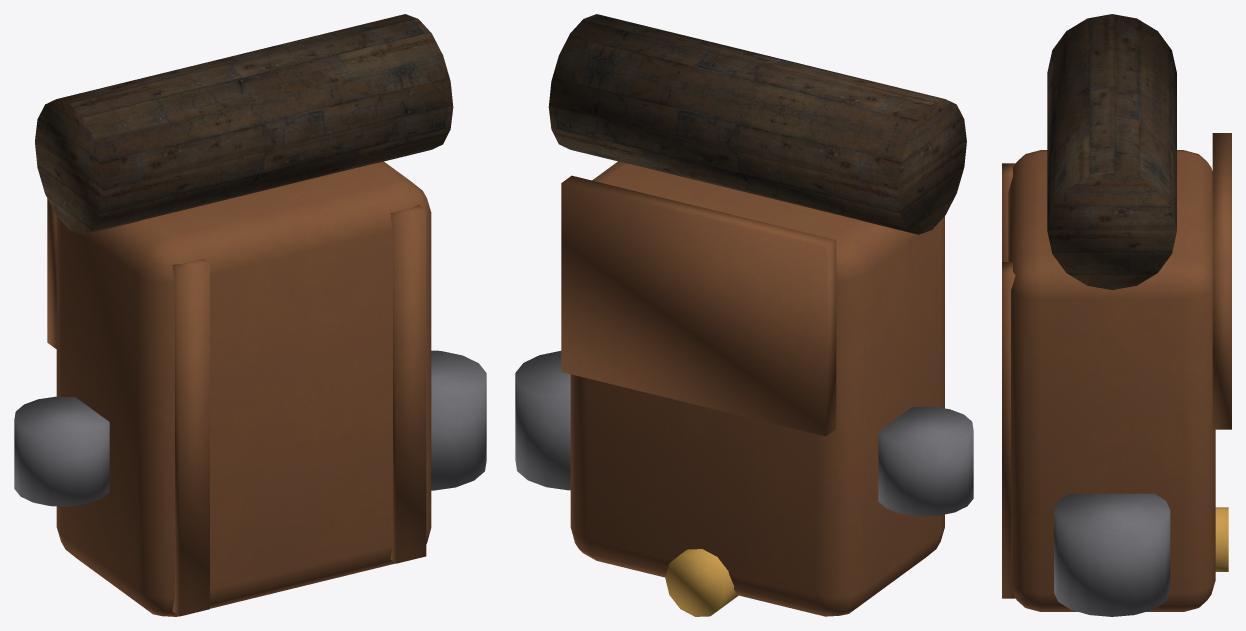
Rendered from prop_merchant_backpack.glb.
3 views of the same model, side by side, from view 1: azimuth 30°, elevation 25°; view 2: azimuth 150°, elevation 25°; view 3: azimuth 270°, elevation 25° (orthographic). The views are drawn at different scales.
Parts seen in each view (by area): view 1: merchant_backpack; view 2: merchant_backpack; view 3: merchant_backpack.
Part boxes in pixels (left/top/right/bottom): merchant_backpack: left=14, top=14, right=486, bottom=616; merchant_backpack: left=515, top=14, right=973, bottom=616; merchant_backpack: left=1002, top=14, right=1231, bottom=616.
Bounding box in the file's own units: 0.75 × 0.81 × 0.355.
1 material, 1 textured.
